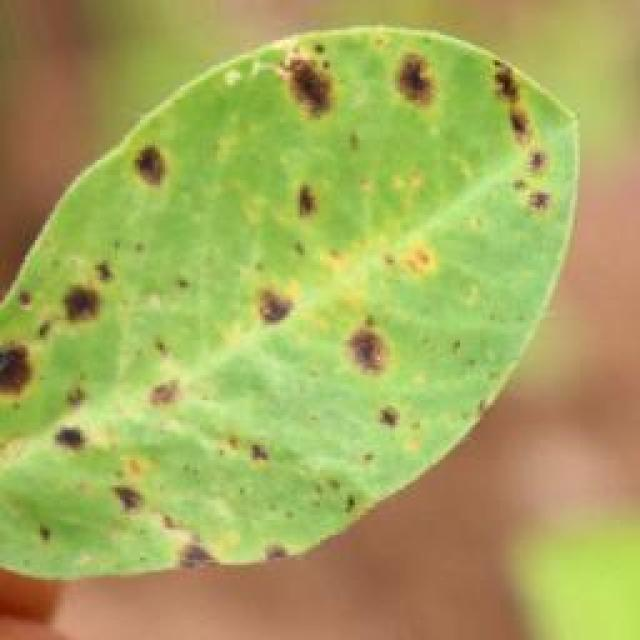Yellowish: (0, 37, 576, 561)
